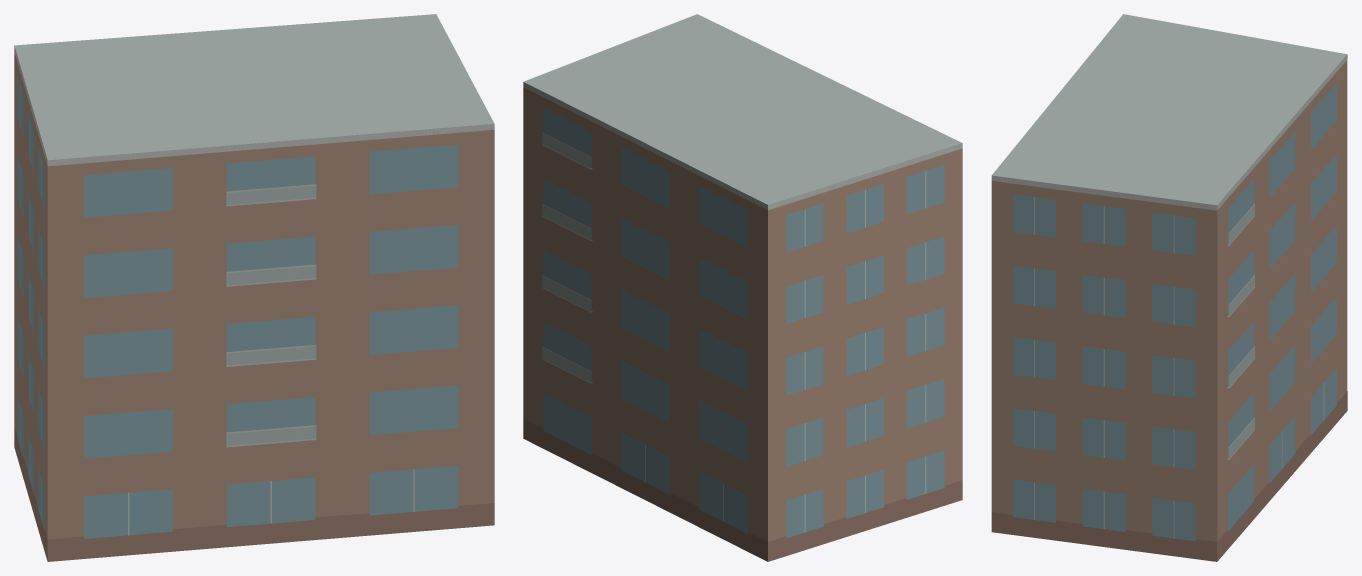
File: survey-upis-32880233.glb
The picture shows the model from 3 angles, left to right: view 1: azimuth 30°, elevation 25°; view 2: azimuth 150°, elevation 25°; view 3: azimuth 270°, elevation 25°; orthographic projection. The views are drawn at different scales.
Visible parts, largest first — view 1: survey-upis-32880233.tmp; view 2: survey-upis-32880233.tmp; view 3: survey-upis-32880233.tmp.
Part boxes in pixels (x1,y1,x2,y2): survey-upis-32880233.tmp: (14,14,494,561); survey-upis-32880233.tmp: (523,14,962,561); survey-upis-32880233.tmp: (991,14,1347,561).
Size of the model in its own units: 18.76 by 16.3 by 14.75.
